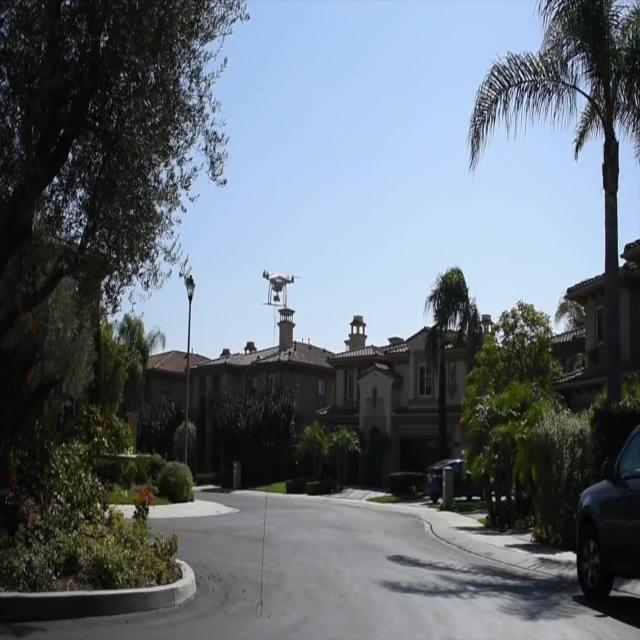drone: (259, 264, 301, 314)
